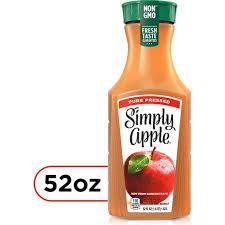juice: (108, 2, 192, 217)
